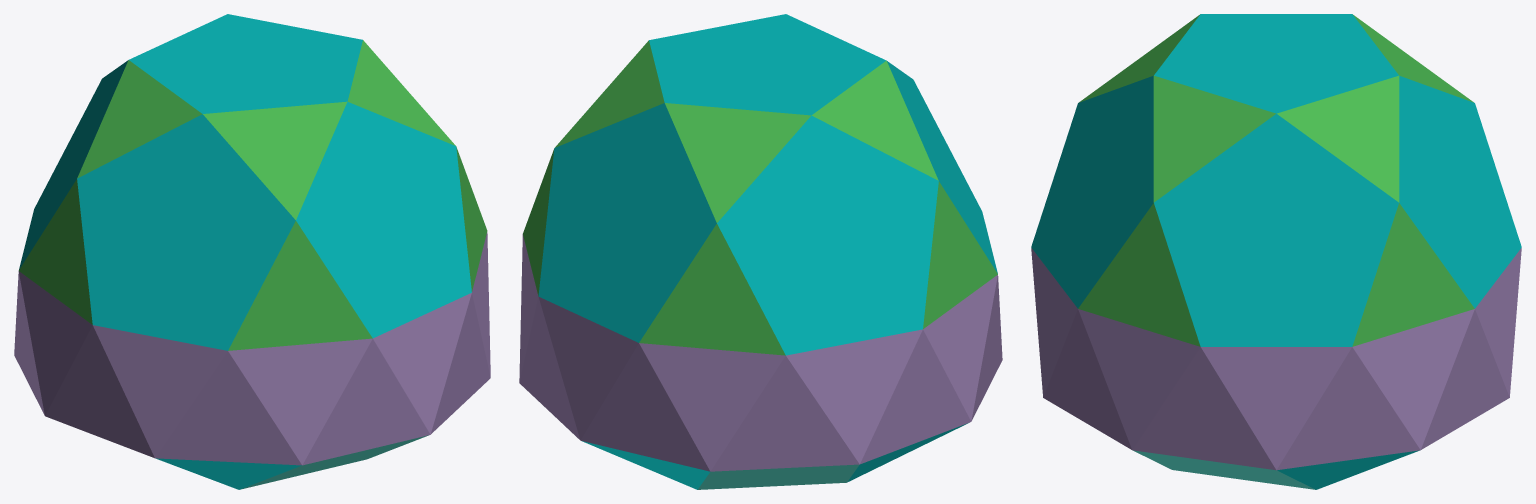
Rendered from J47.CupularrotondaPentagonalGiroelongada.gltf.
The picture shows the model from 3 angles, left to right: view 1: azimuth 30°, elevation 25°; view 2: azimuth 150°, elevation 25°; view 3: azimuth 270°, elevation 25°; orthographic projection. The views are drawn at different scales.
Visible parts, largest first — view 1: J47.CupularrotondaPentagonalGiroelongada; view 2: J47.CupularrotondaPentagonalGiroelongada; view 3: J47.CupularrotondaPentagonalGiroelongada.
Part boxes in pixels (x1,y1,x2,y2): J47.CupularrotondaPentagonalGiroelongada: (14,14,490,489); J47.CupularrotondaPentagonalGiroelongada: (519,14,1002,489); J47.CupularrotondaPentagonalGiroelongada: (1031,14,1521,489).
Bounding box in the file's own units: 16.2 × 13.87 × 16.2.
